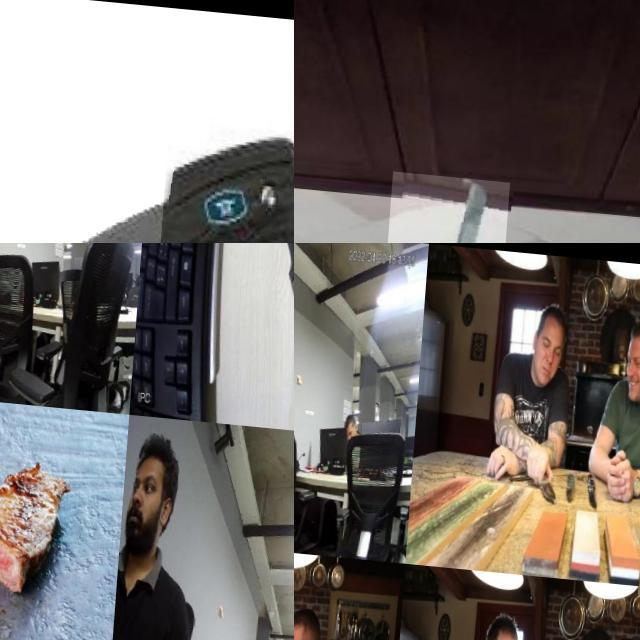-: (0, 78, 228, 243), (0, 400, 80, 640), (384, 166, 513, 243), (253, 243, 294, 422), (530, 441, 566, 498), (294, 428, 307, 469), (0, 243, 6, 261)
